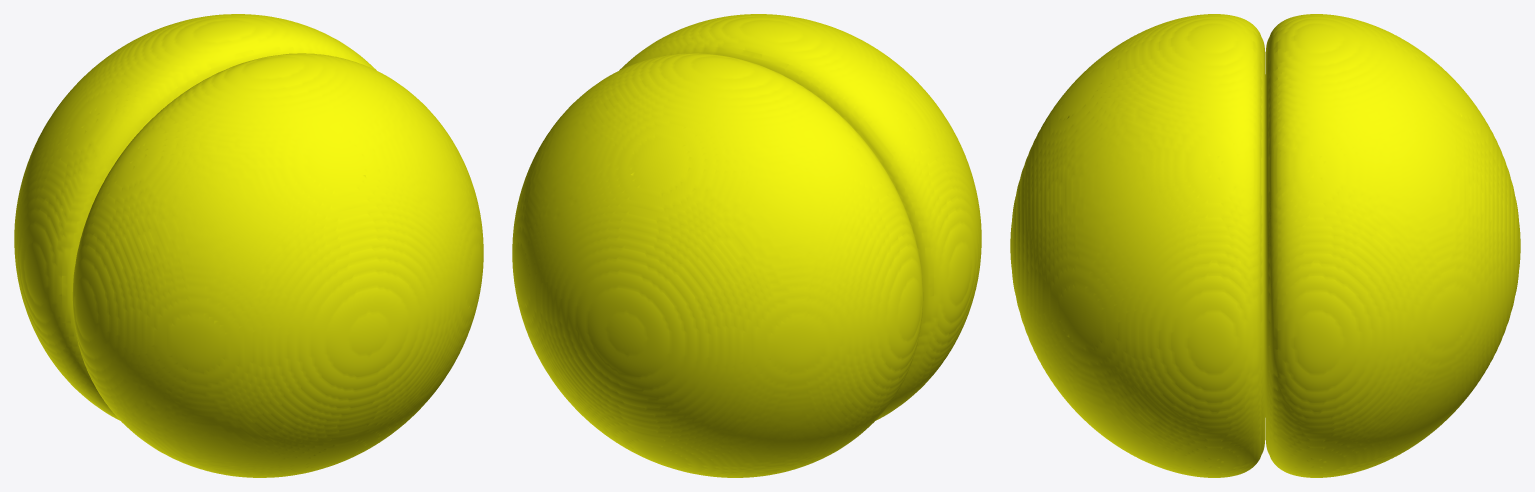
The model's file is orb_n=7_ l=1 _m=-1.fbx.
The picture shows the model from 3 angles, left to right: view 1: azimuth 30°, elevation 25°; view 2: azimuth 150°, elevation 25°; view 3: azimuth 270°, elevation 25°; orthographic projection. The views are drawn at different scales.
Visible parts, largest first — view 1: orb_n=7_ l=1 _m=-1; view 2: orb_n=7_ l=1 _m=-1; view 3: orb_n=7_ l=1 _m=-1.
Part boxes in pixels (box(x1,y1,x2,y2)): orb_n=7_ l=1 _m=-1: box(14, 14, 483, 477); orb_n=7_ l=1 _m=-1: box(512, 14, 981, 477); orb_n=7_ l=1 _m=-1: box(1010, 14, 1520, 477).
Size of the model in its own units: 37827 by 37827 by 41592.
